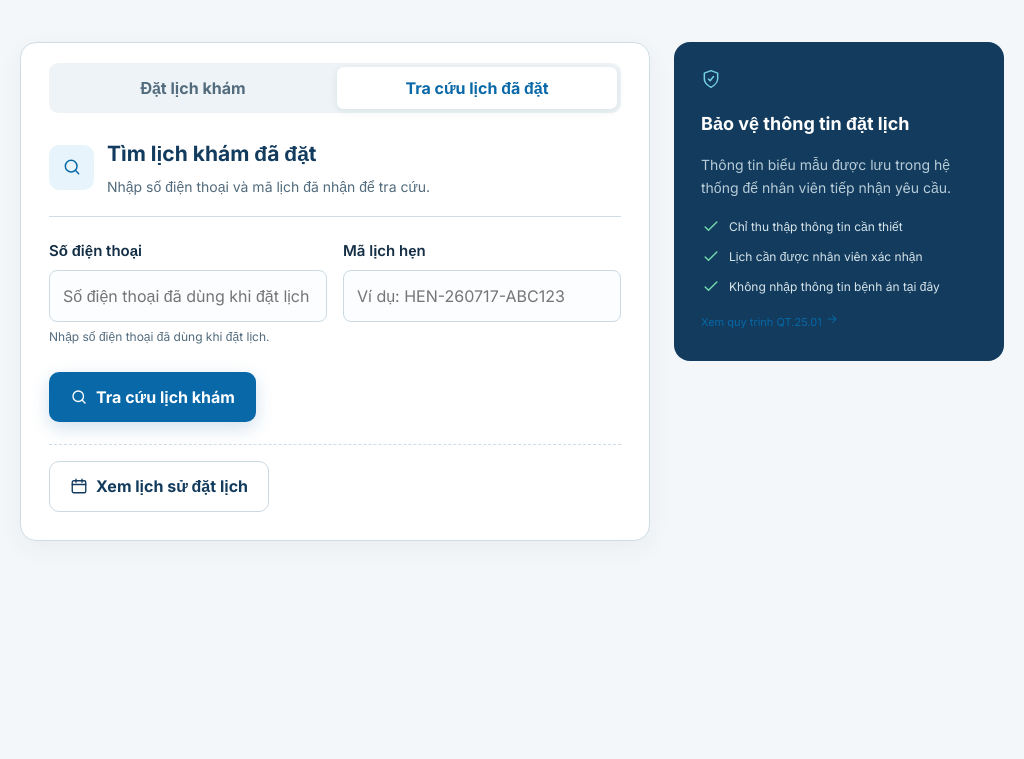
Scenario: patient prototype components › shows a stored appointment after lookup
The width and height of the screenshot is (1024, 759).
Type "0987 000 042" into the field with placeholder "số điện thoại đã dùng khi đặt lịch" at (188, 296), box [49,270,327,322]
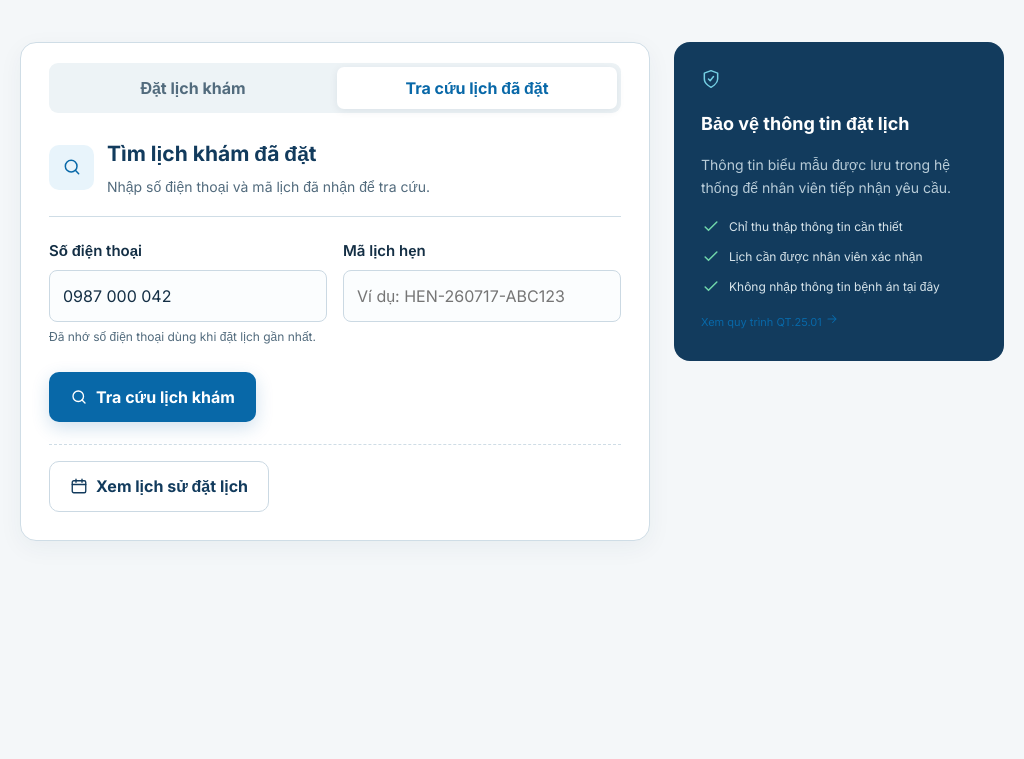
Type "HEN-260717-042" into the field with placeholder "Ví dụ: HEN-260717-ABC123" at (482, 296), box [343,270,621,322]
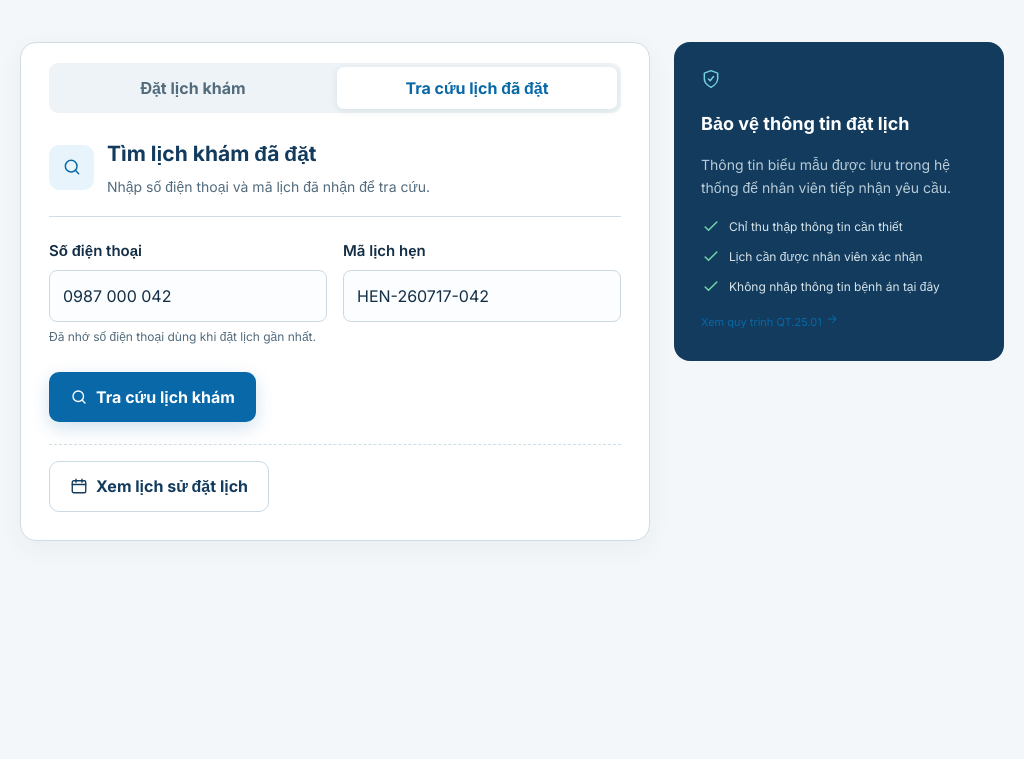
Click the button "Tra cứu lịch khám" at (152, 397), box [49,372,256,422]
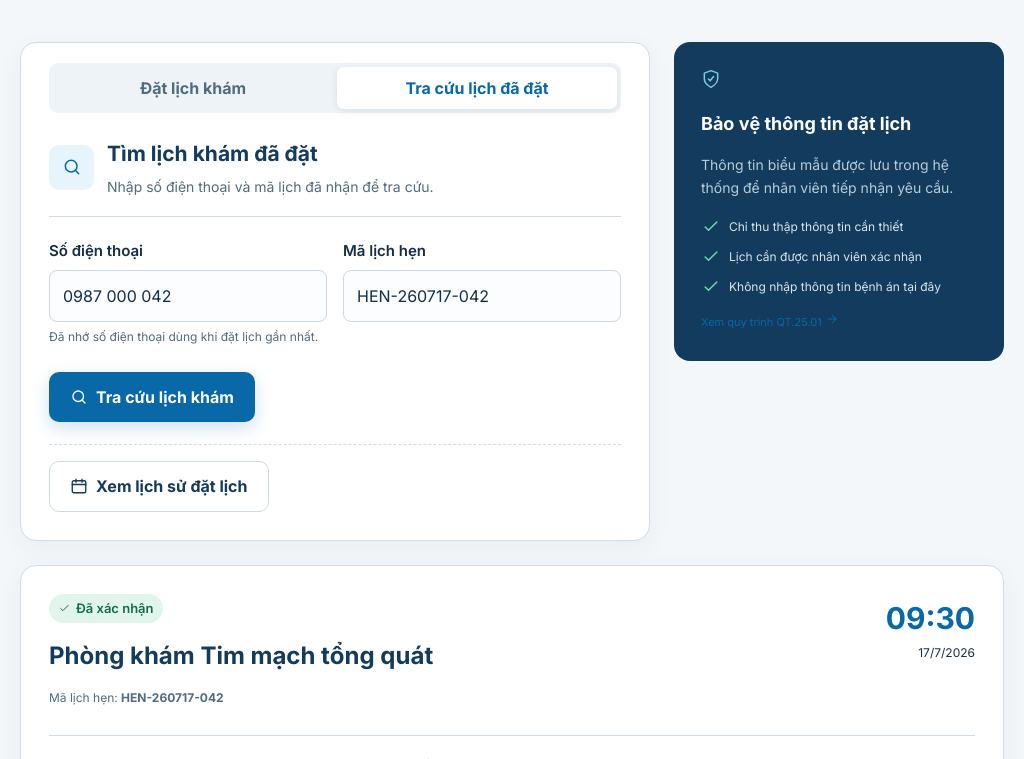
Check: the text "HEN-260717-042" is shown, box [121,690,224,705]
Check: the heading "Phòng khám Tim mạch tổng quát" is shown, box [49,636,433,676]
